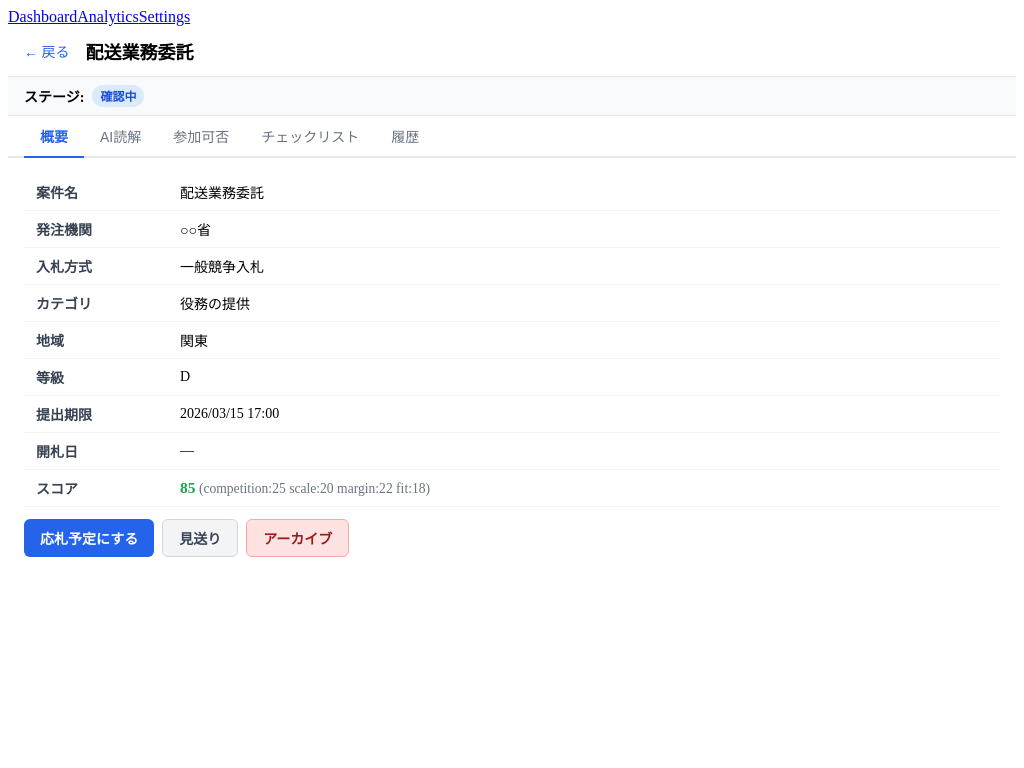
CaseDetail — Tab switching › switches to eligibility tab and shows empty state
Click the button with test id "tab-eligibility".
click(201, 137)  # box [157,116,245,158]
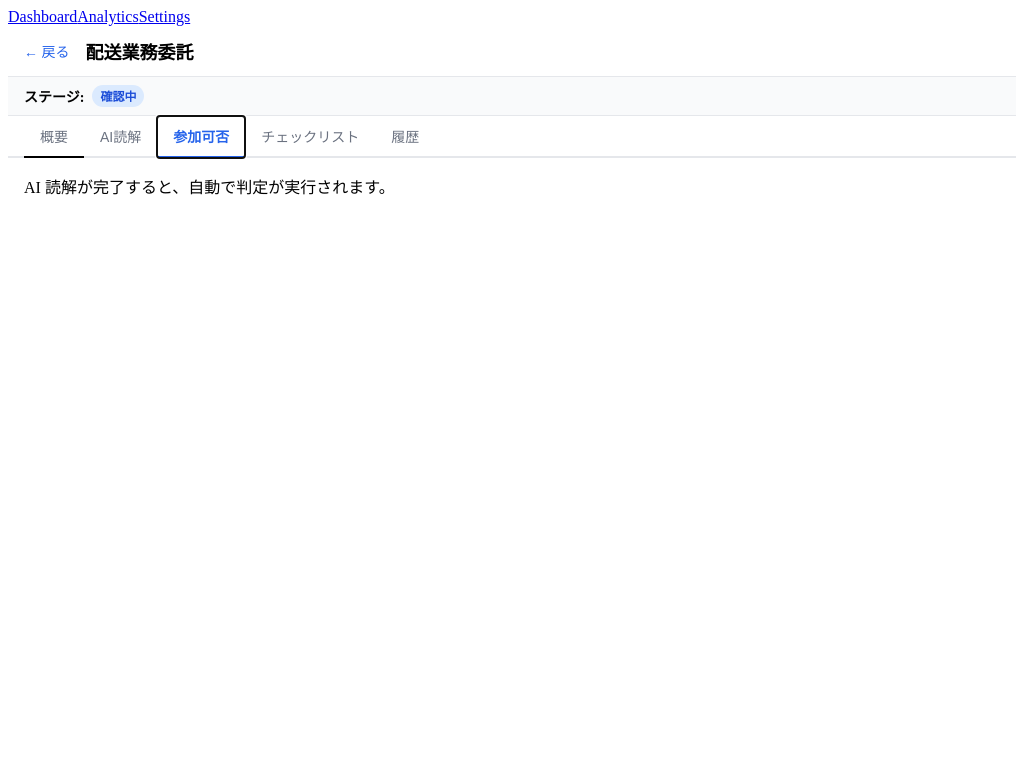
Expected: the text with test id "tab-content-eligibility" shows "自動で判定が実行されます", [24,179,395,196]
